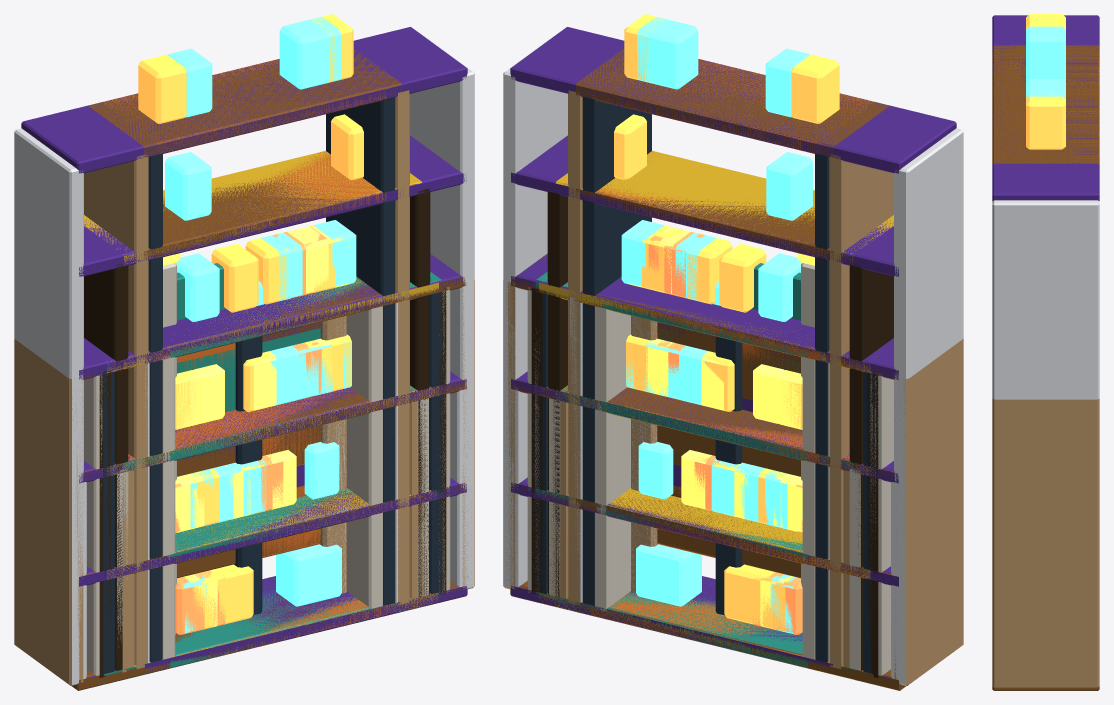
The model's file is flagship_props_019.glb.
The picture shows the model from 3 angles, left to right: view 1: azimuth 30°, elevation 25°; view 2: azimuth 150°, elevation 25°; view 3: azimuth 270°, elevation 25°; orthographic projection. The views are drawn at different scales.
Visible parts, largest first — view 1: Prop_BBIsle_Shelf_09, Prop_BBIsle_Shelf_08, Prop_BBIsle_Shelf_10, Prop_BBIsle_Shelf_13, Prop_BBIsle_Shelf_16, Prop_BBIsle_Shelf_07, Prop_BBIsle_Shelf_14, Prop_BBIsle_Shelf_15, Prop_BBIsle_Shelf_19, Prop_BBIsle_Shelf_12, Prop_BBIsle_Shelf_17, Prop_BBIsle_Shelf_11 (+5 smaller); view 2: Prop_BBIsle_Shelf_09, Prop_BBIsle_Shelf_08, Prop_BBIsle_Shelf_10, Prop_BBIsle_Shelf_13, Prop_BBIsle_Shelf_07, Prop_BBIsle_Shelf_16, Prop_BBIsle_Shelf_14, Prop_BBIsle_Shelf_11, Prop_BBIsle_Shelf_12, Prop_BBIsle_Shelf_15, Prop_BBIsle_Shelf_17, Prop_BBIsle_Sign_01 (+5 smaller); view 3: Prop_BBIsle_Shelf_09, Prop_BBIsle_Shelf_13, Prop_BBIsle_Shelf_08.
Boxes of the visible parts, <box> form: Prop_BBIsle_Shelf_09: <box>14,14,474,685</box>; Prop_BBIsle_Shelf_08: <box>84,17,409,668</box>; Prop_BBIsle_Shelf_10: <box>103,59,395,663</box>; Prop_BBIsle_Shelf_13: <box>14,254,474,690</box>; Prop_BBIsle_Shelf_16: <box>84,150,430,675</box>; Prop_BBIsle_Shelf_07: <box>162,306,382,667</box>; Prop_BBIsle_Shelf_14: <box>145,225,400,668</box>; Prop_BBIsle_Shelf_15: <box>103,245,442,676</box>; Prop_BBIsle_Shelf_19: <box>74,371,470,685</box>; Prop_BBIsle_Shelf_12: <box>117,370,428,679</box>; Prop_BBIsle_Shelf_17: <box>84,226,450,684</box>; Prop_BBIsle_Shelf_11: <box>99,275,446,677</box>; Prop_BBIsle_Shelf_09: <box>503,14,963,685</box>; Prop_BBIsle_Shelf_08: <box>568,17,893,668</box>; Prop_BBIsle_Shelf_10: <box>582,59,873,671</box>; Prop_BBIsle_Shelf_13: <box>503,254,963,690</box>; Prop_BBIsle_Shelf_07: <box>595,304,815,667</box>; Prop_BBIsle_Shelf_16: <box>547,151,893,679</box>; Prop_BBIsle_Shelf_14: <box>570,225,832,667</box>; Prop_BBIsle_Shelf_11: <box>531,277,878,677</box>; Prop_BBIsle_Shelf_12: <box>549,370,860,670</box>; Prop_BBIsle_Shelf_15: <box>535,249,874,673</box>; Prop_BBIsle_Shelf_17: <box>527,226,893,675</box>; Prop_BBIsle_Sign_01: <box>631,315,800,593</box>; Prop_BBIsle_Shelf_09: <box>992,14,1099,399</box>; Prop_BBIsle_Shelf_13: <box>992,398,1099,690</box>; Prop_BBIsle_Shelf_08: <box>992,26,1099,164</box>.
Bounding box in the file's own units: 1.64 × 2.25 × 0.4.
